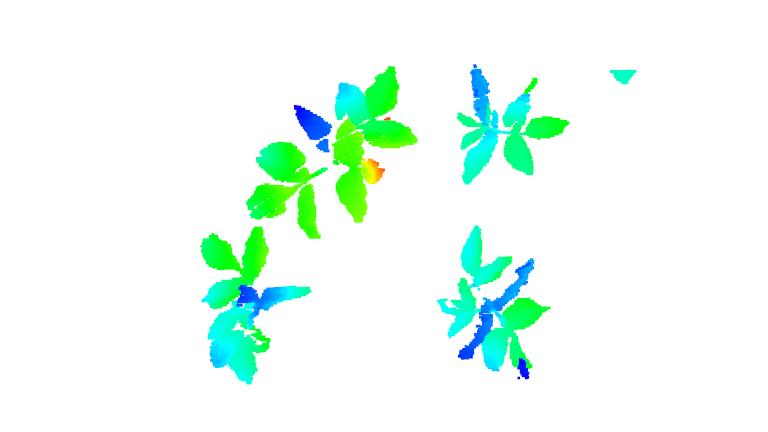mungbean: (241, 64, 421, 240), (196, 224, 311, 385), (438, 223, 553, 383), (453, 65, 573, 188)
